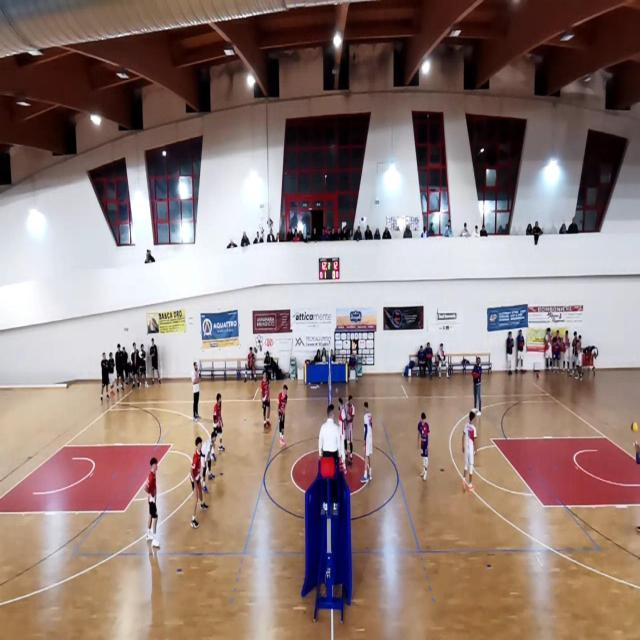volleyball: (630, 422, 638, 432)
